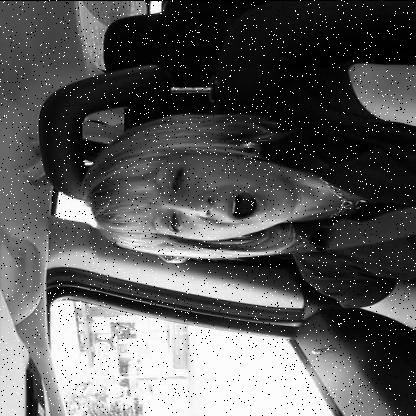seatbelt: (85, 121, 416, 293)
